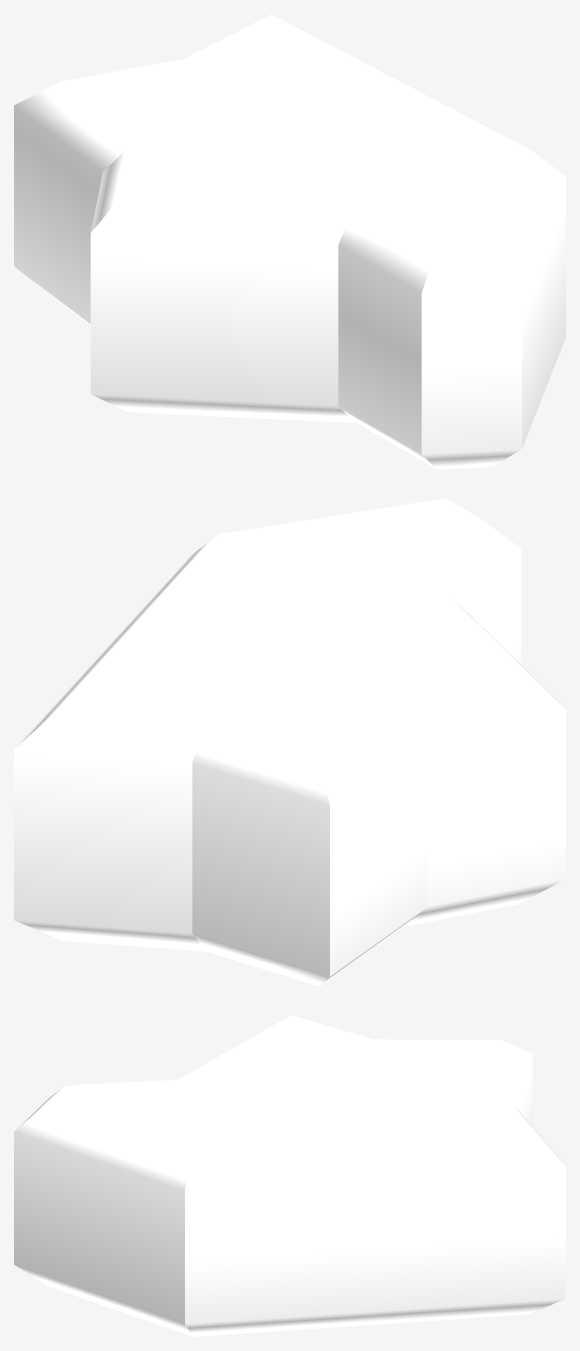
Rendered from ice_floe_small_008.glb.
3 renders of one model, top to bottom at view 1: azimuth 30°, elevation 25°; view 2: azimuth 150°, elevation 25°; view 3: azimuth 270°, elevation 25°, orthographic. The views are drawn at different scales.
Parts seen in each view (by area): view 1: ice_floe_small_008; view 2: ice_floe_small_008; view 3: ice_floe_small_008.
Part boxes in pixels (x1,y1,x2,y2): ice_floe_small_008: (14, 14, 565, 469); ice_floe_small_008: (14, 498, 565, 986); ice_floe_small_008: (14, 1015, 565, 1336).
Size of the model in its own units: 1.36 by 0.6962 by 1.9.
Materials: 1 (1 with a texture image).
